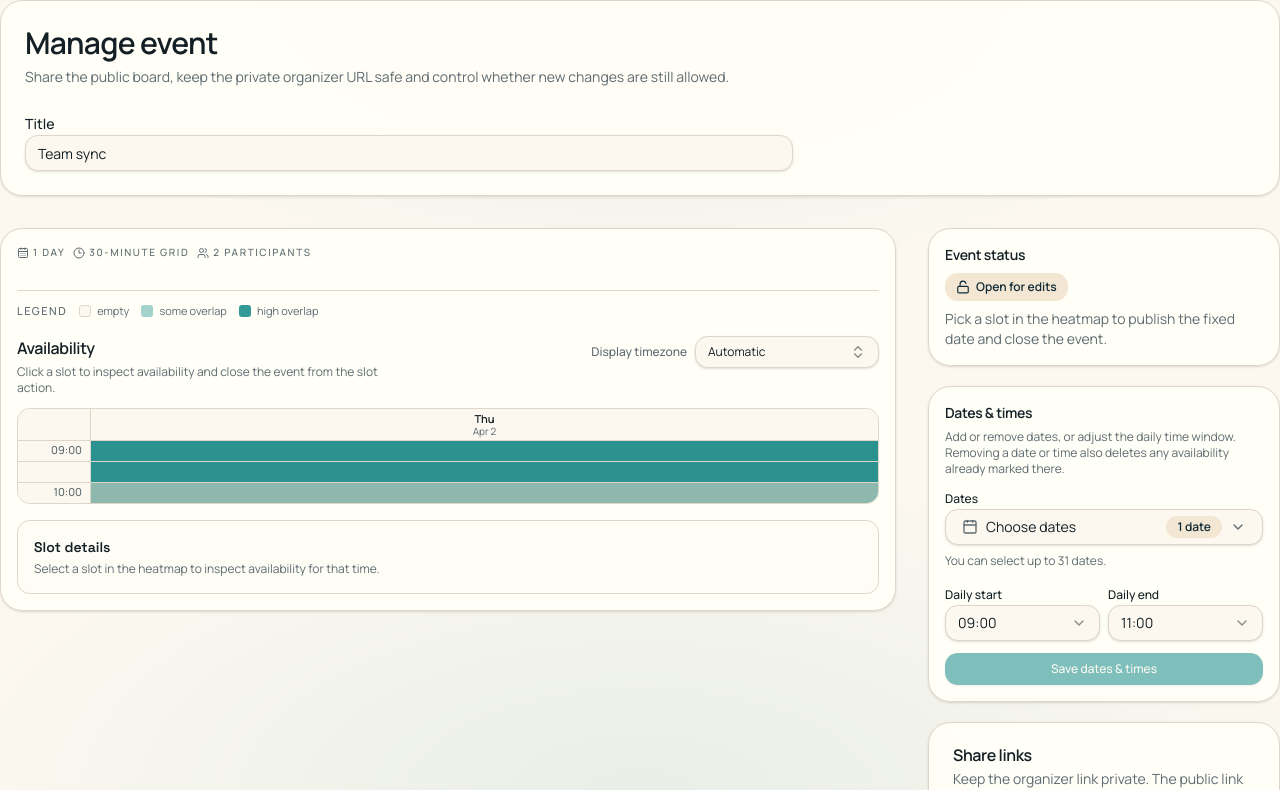
it: ManageEventClient › saves the title independently from closing and reopening actions
Clear the field labelled "Title". click: (409, 153)
box: left=25, top=135, right=793, bottom=171
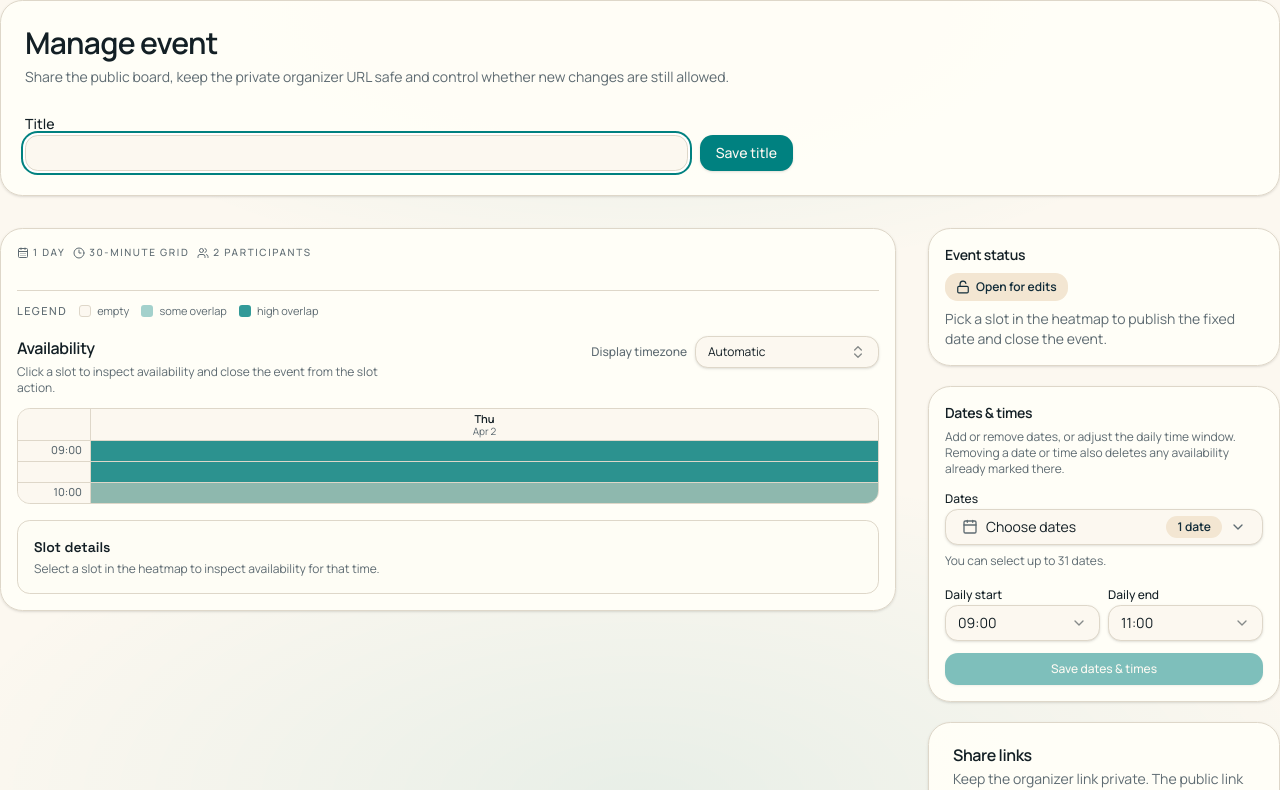
Type "Updated team sync" into the field labelled "Title". click: (356, 153)
box: left=25, top=135, right=688, bottom=171
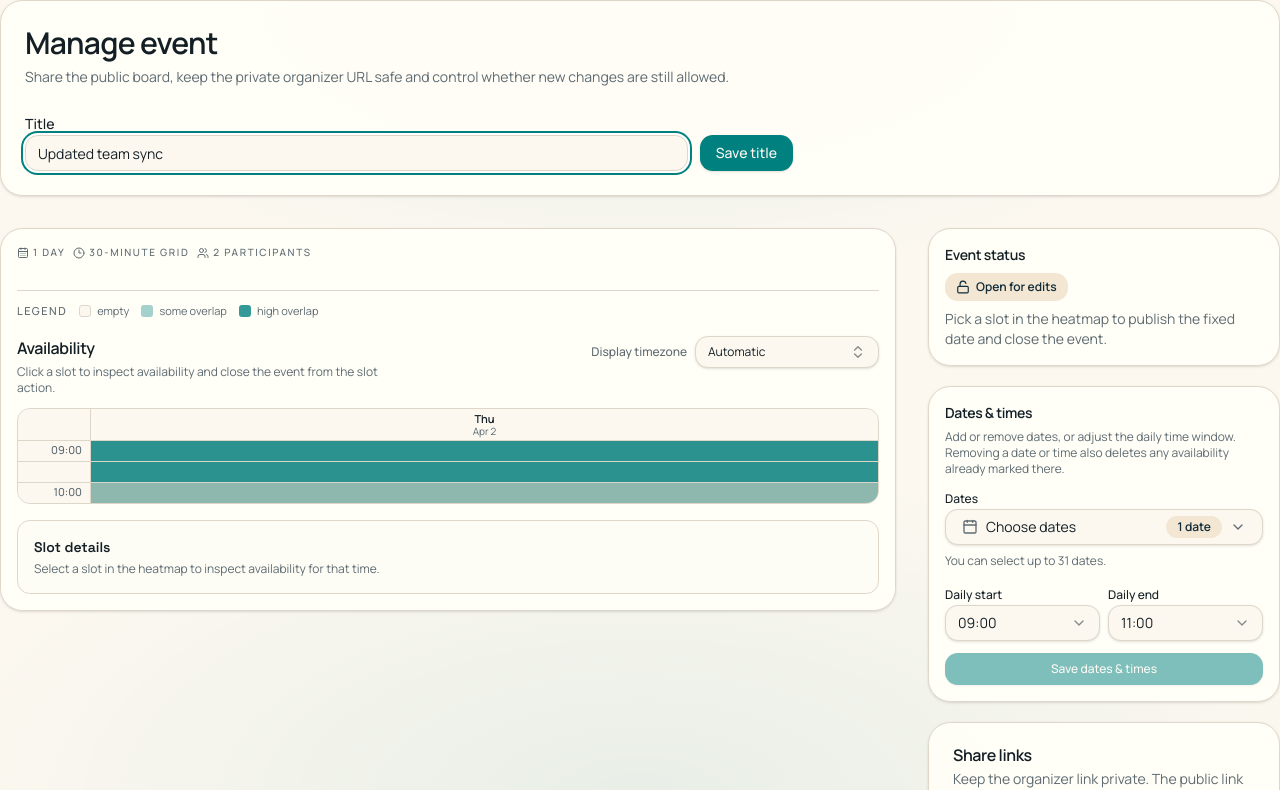
Expected: the button "Save title" is shown
Click the button "Save title". click: click(746, 153)
box: left=700, top=135, right=793, bottom=171
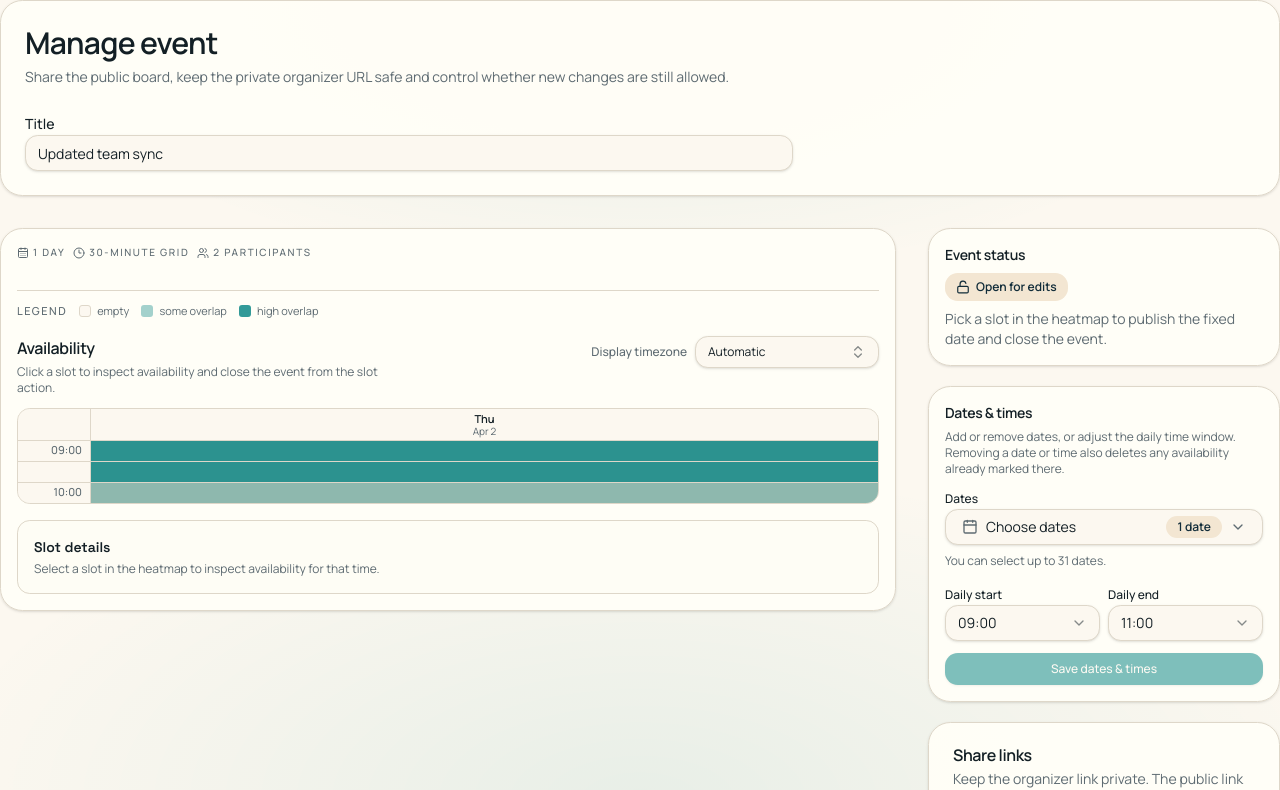
Expected: the button "Save title" is gone
